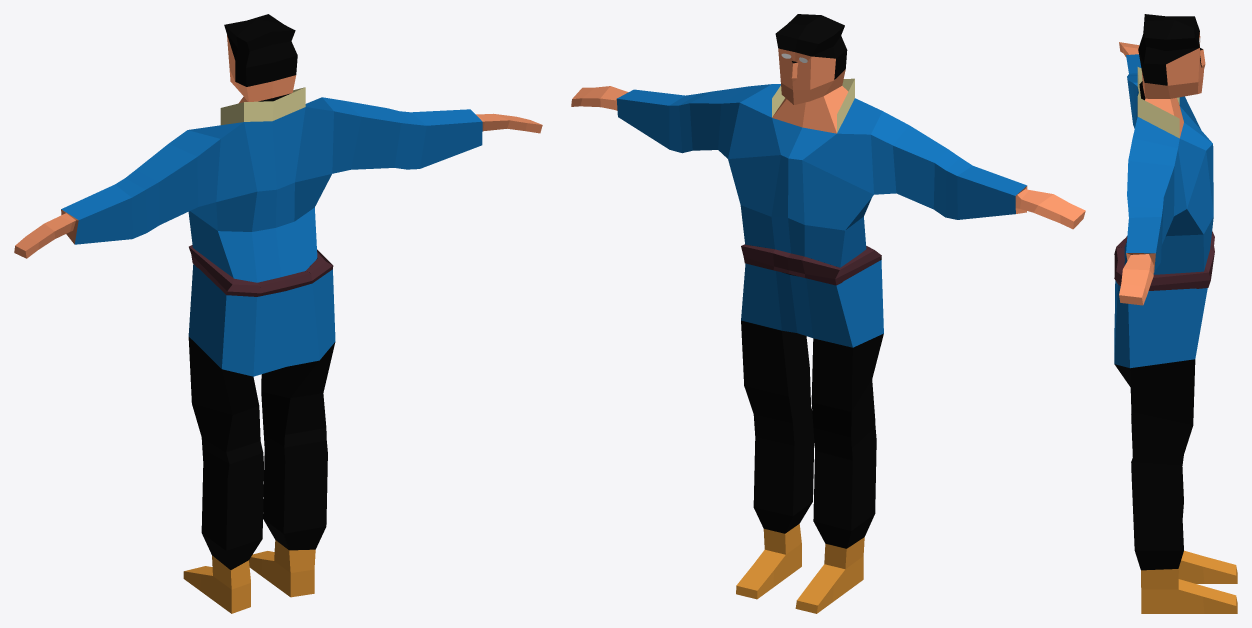
The model's file is Player.fbx.
The picture shows the model from 3 angles, left to right: view 1: azimuth 30°, elevation 25°; view 2: azimuth 150°, elevation 25°; view 3: azimuth 270°, elevation 25°; orthographic projection. The views are drawn at different scales.
Visible parts, largest first — view 1: Player; view 2: Player; view 3: Player.
Part boxes in pixels (left/top/right/bottom): Player: left=14, top=14, right=542, bottom=613; Player: left=571, top=14, right=1085, bottom=613; Player: left=1114, top=14, right=1237, bottom=613.
Size of the model in its own units: 940 by 994 by 194.
